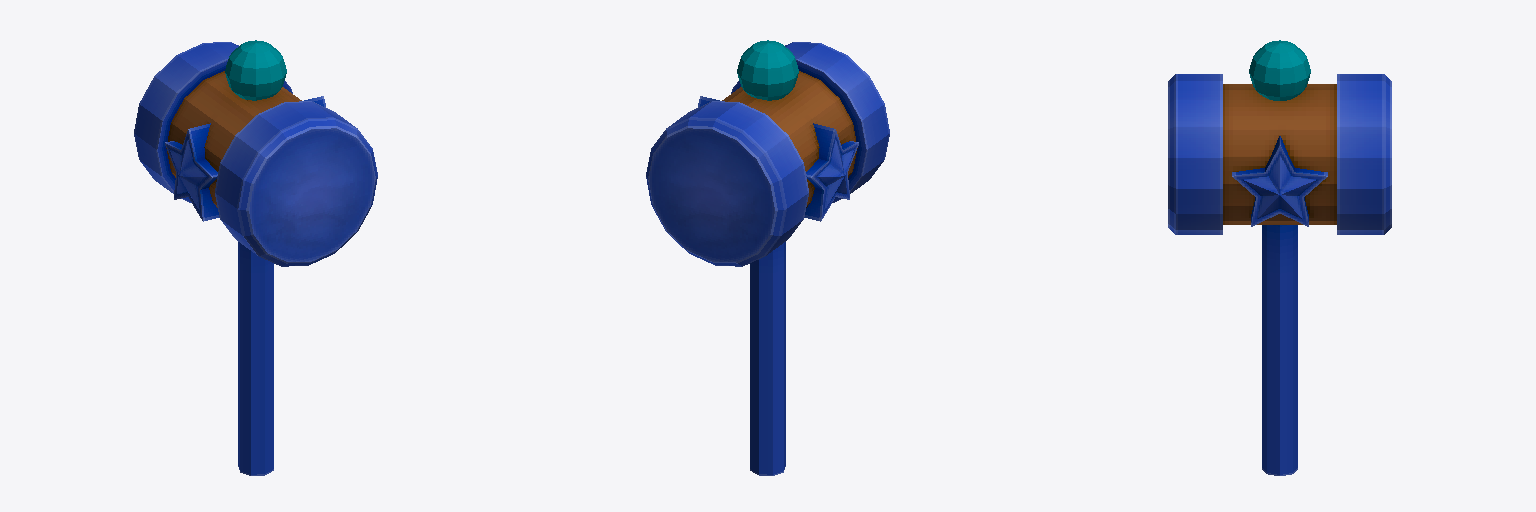
3 renders of one model, left to right at view 1: azimuth 30°, elevation 25°; view 2: azimuth 150°, elevation 25°; view 3: azimuth 270°, elevation 25°, orthographic.
Parts seen in each view (by area): view 1: KO_Hammer_Brawl; view 2: KO_Hammer_Brawl; view 3: KO_Hammer_Brawl.
Part boxes in pixels (bbox=[...]): KO_Hammer_Brawl: bbox=[134, 40, 377, 475]; KO_Hammer_Brawl: bbox=[646, 40, 889, 475]; KO_Hammer_Brawl: bbox=[1168, 40, 1391, 475].
Bounding box in the file's own units: 14.29 × 37.82 × 18.07.
1 materials, 1 textured.